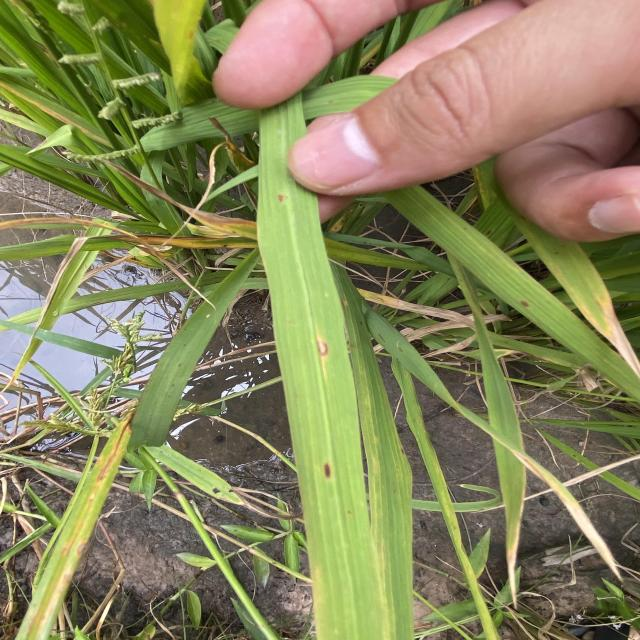Dom nau: (315, 338, 330, 358), (322, 462, 334, 482), (519, 298, 536, 310), (275, 193, 287, 206)
